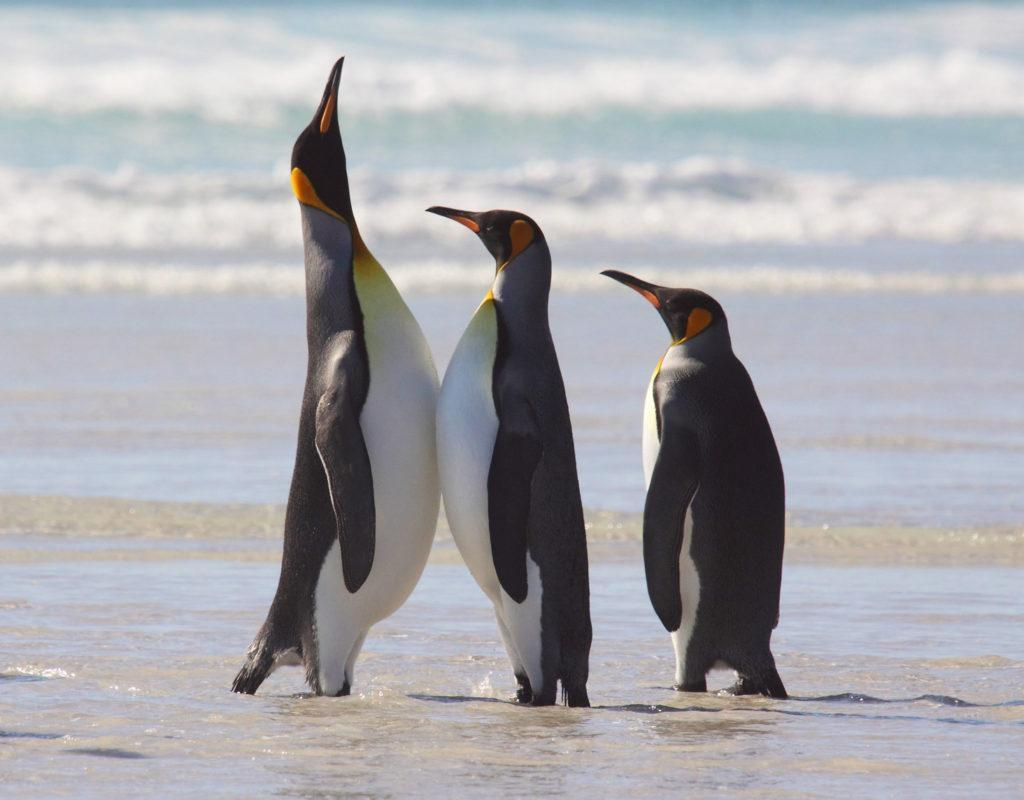Penguin: (232, 58, 440, 695), (428, 206, 592, 706), (602, 270, 786, 697)
